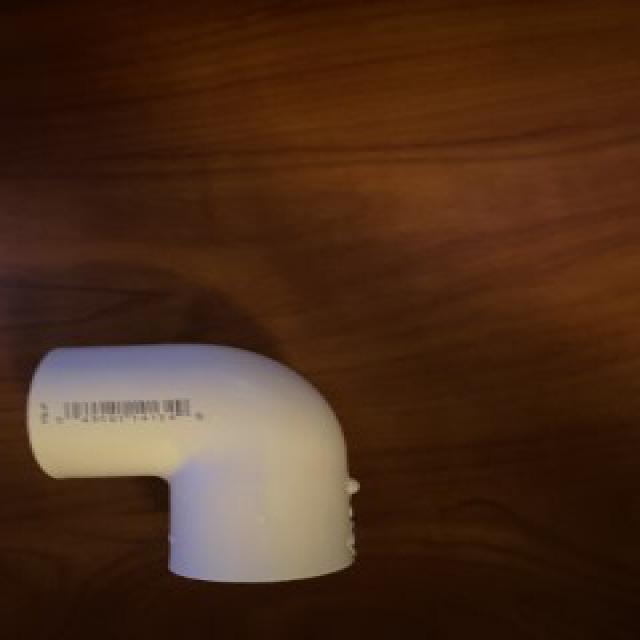L Joint: (25, 343, 359, 586)
